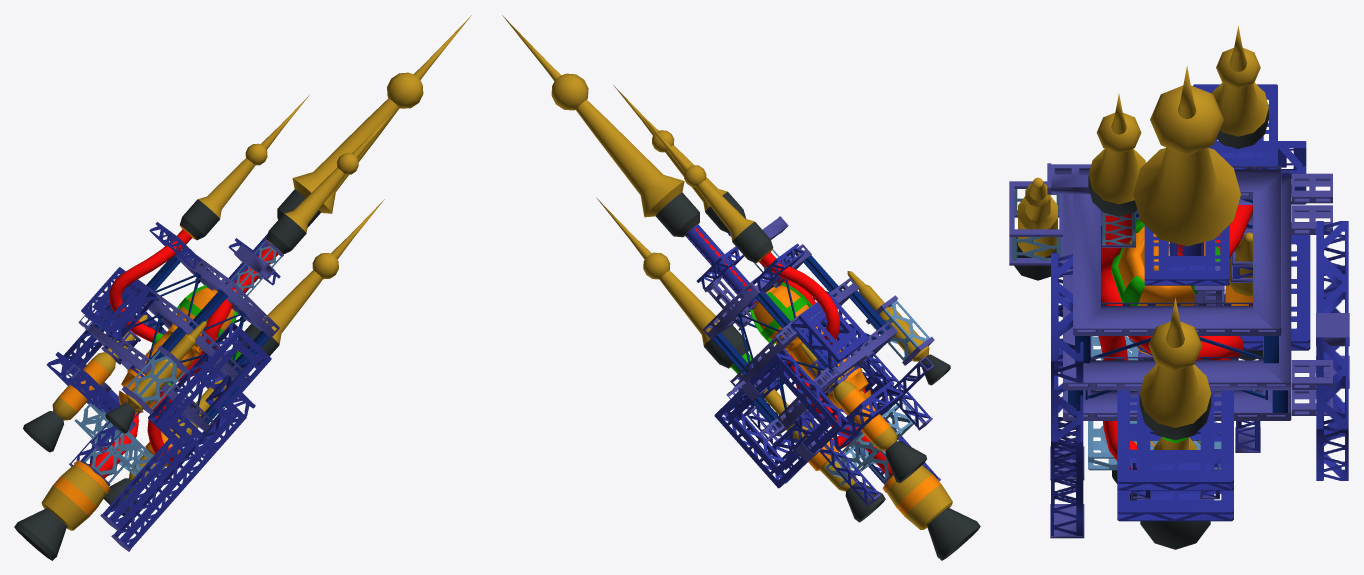
File: Dreadnought.obj
The picture shows the model from 3 angles, left to right: view 1: azimuth 30°, elevation 25°; view 2: azimuth 150°, elevation 25°; view 3: azimuth 270°, elevation 25°; orthographic projection. The views are drawn at different scales.
Visible parts, largest first — view 1: m5, m1, m7, m3, m2, m8, m0, m6, m9; view 2: m1, m5, m7, m3, m9, m0, m6, m8, m2, m4; view 3: m7, m5, m1, m3, m2, m8, m0, m6, m9, m4.
Part boxes in pixels (x1,y1,x2,y2): m5: (46, 222, 280, 549); m1: (41, 15, 471, 530); m7: (65, 240, 283, 551); m3: (14, 189, 320, 560); m2: (89, 229, 278, 478); m8: (74, 242, 281, 486); m0: (53, 219, 282, 516); m6: (95, 256, 269, 423); m9: (69, 233, 267, 464); m1: (502, 15, 952, 529); m5: (696, 243, 938, 488); m7: (702, 216, 940, 506); m3: (655, 192, 980, 560); m9: (685, 224, 930, 504); m0: (683, 218, 941, 516); m6: (712, 255, 889, 427); m8: (730, 235, 929, 485); m2: (688, 228, 892, 475); m4: (731, 282, 811, 376); m7: (1009, 163, 1349, 538); m5: (1051, 84, 1348, 535); m1: (1018, 26, 1268, 449); m3: (1014, 108, 1268, 549); m2: (1098, 205, 1252, 469); m8: (1012, 189, 1221, 470); m0: (1118, 226, 1252, 449); m6: (1068, 199, 1287, 412); m9: (1131, 238, 1260, 497); m4: (1111, 219, 1220, 442).
Size of the model in its own units: 87 by 78.44 by 27.87.
